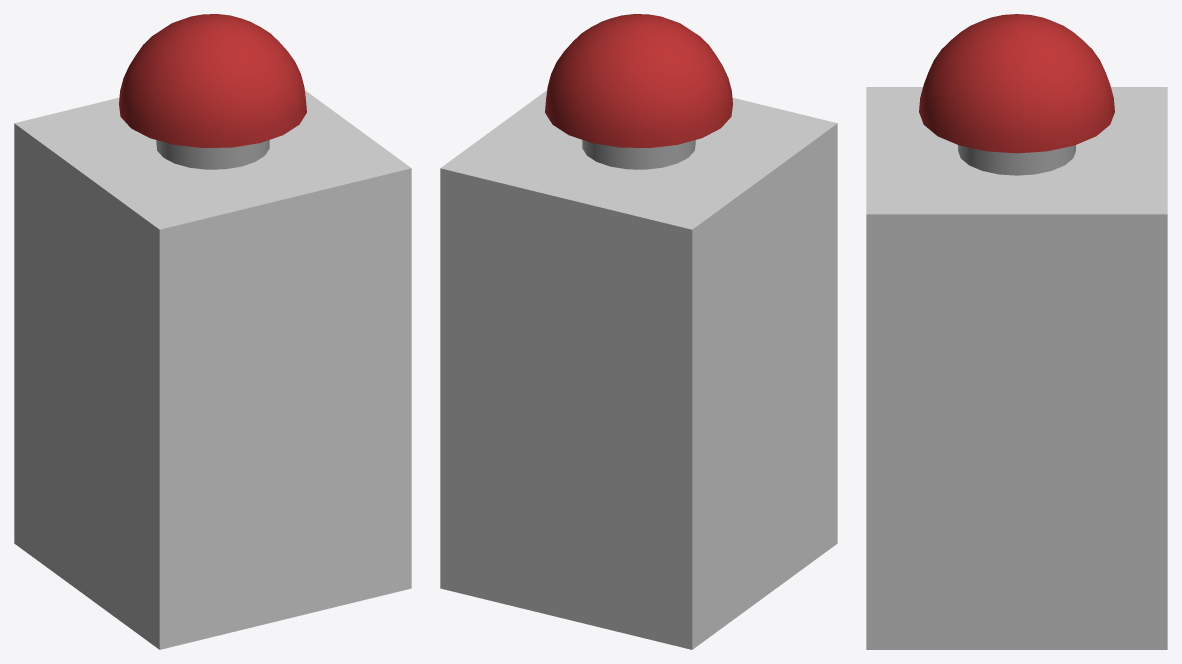
File: Button.fbx
3 renders of one model, left to right at view 1: azimuth 30°, elevation 25°; view 2: azimuth 150°, elevation 25°; view 3: azimuth 270°, elevation 25°, orthographic. The views are drawn at different scales.
Parts seen in each view (by area): view 1: pCube1, pSphere1, pCylinder1; view 2: pCube1, pSphere1, pCylinder1; view 3: pCube1, pSphere1, pCylinder1.
Part boxes in pixels (bbox=[...]): pCube1: bbox=[14, 90, 411, 649]; pSphere1: bbox=[119, 14, 306, 148]; pCylinder1: bbox=[156, 140, 269, 169]; pCube1: bbox=[440, 90, 837, 649]; pSphere1: bbox=[545, 14, 732, 148]; pCylinder1: bbox=[582, 140, 695, 169]; pCube1: bbox=[866, 87, 1167, 649]; pSphere1: bbox=[919, 14, 1114, 153]; pCylinder1: bbox=[958, 145, 1075, 175].
Size of the model in its own units: 0.631 by 1.3 by 0.631.
